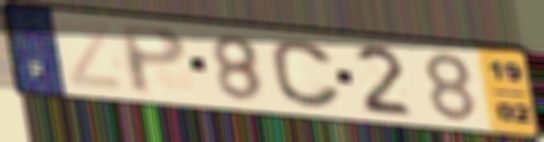2: (352, 43, 418, 123)
8: (419, 49, 481, 124), (209, 32, 269, 104)
C: (267, 38, 345, 111)
P: (114, 22, 191, 98)
Z: (52, 18, 130, 94)
